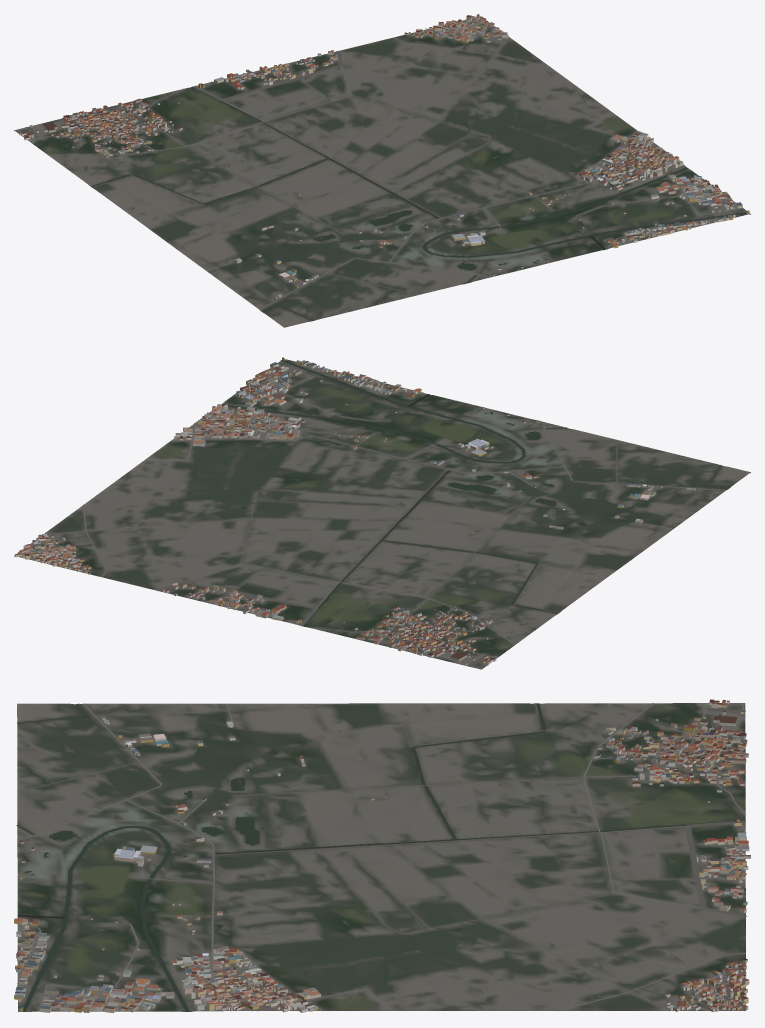
The picture shows the model from 3 angles, top to bottom: view 1: azimuth 30°, elevation 25°; view 2: azimuth 150°, elevation 25°; view 3: azimuth 270°, elevation 25°; orthographic projection. The views are drawn at different scales.
Parts seen in each view (by area): view 1: ground, buildings, roads, water; view 2: ground, buildings, roads, water; view 3: ground, buildings, roads, water.
Boxes of the visible parts, box(x1,y1,x2,y2) form: ground: box(14, 16, 750, 327); buildings: box(19, 14, 749, 298); roads: box(14, 19, 742, 309); water: box(90, 86, 746, 320); ground: box(14, 359, 750, 669); buildings: box(15, 357, 695, 665); roads: box(29, 365, 726, 669); water: box(222, 360, 728, 626); ground: box(17, 703, 745, 1011); buildings: box(14, 699, 750, 1013); roads: box(17, 703, 746, 1011); water: box(16, 703, 745, 1011).
Bounding box in the file's own units: 1416 × 21.27 × 1419.
